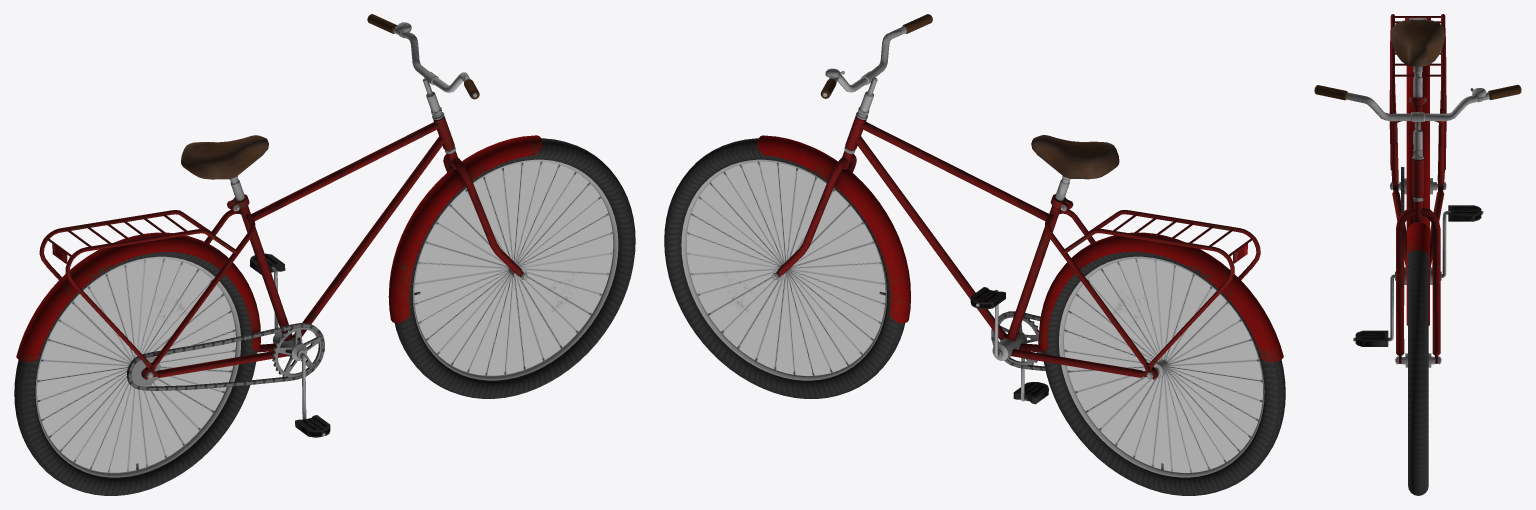
The model's file is bicycle.obj.
3 renders of one model, left to right at view 1: azimuth 30°, elevation 25°; view 2: azimuth 150°, elevation 25°; view 3: azimuth 270°, elevation 25°, orthographic. The views are drawn at different scales.
Parts seen in each view (by area): view 1: obj1; view 2: obj1; view 3: obj1.
Part boxes in pixels (x1,y1,x2,y2): obj1: [14, 14, 635, 495]; obj1: [664, 14, 1285, 495]; obj1: [1314, 14, 1521, 495].
Bounding box in the file's own units: 187 × 108 × 55.77.
Materials: 1 (1 with a texture image).
